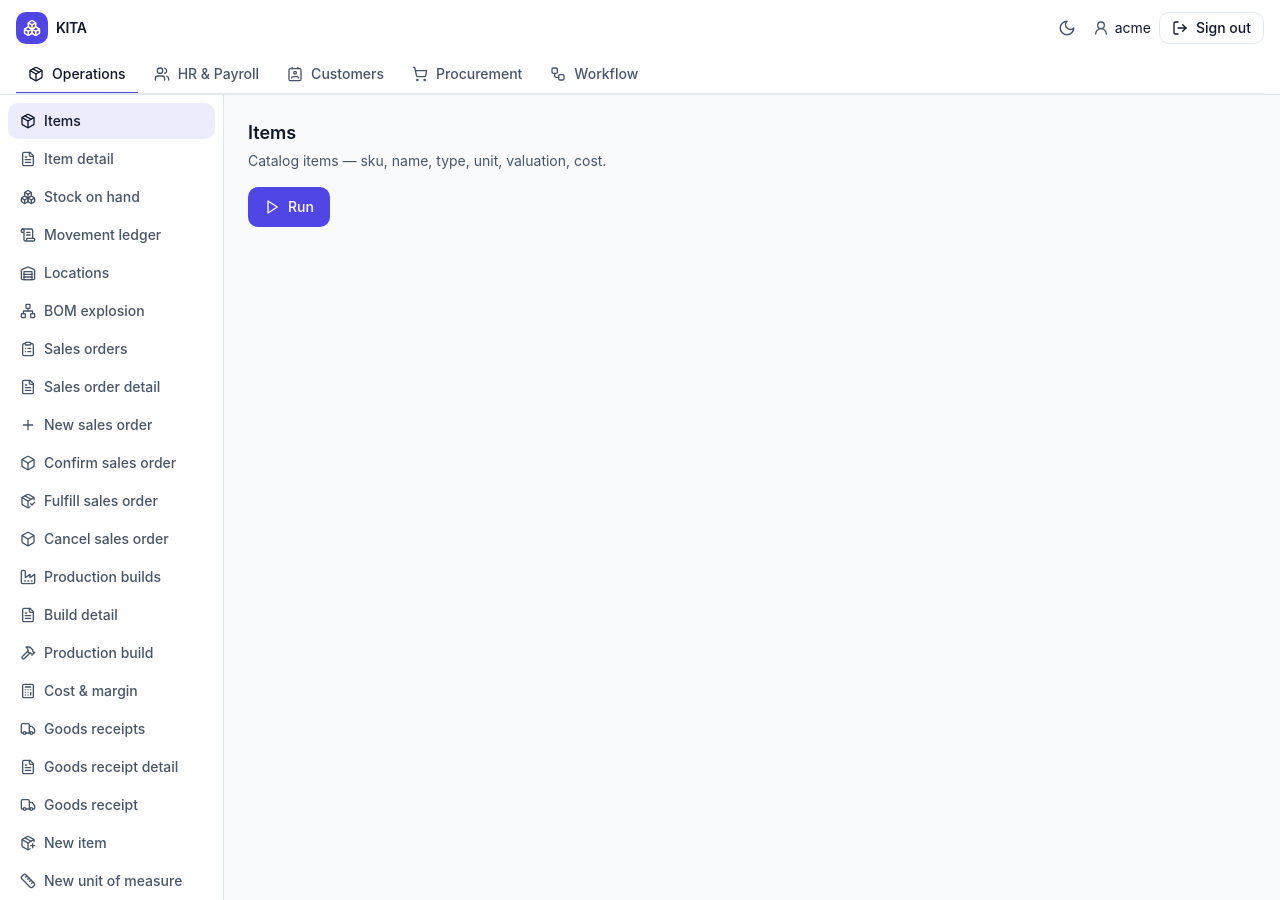
it: Console shell › signs out back to the login page
Click the button "Sign out": (1212, 28) [1159,12,1264,44]
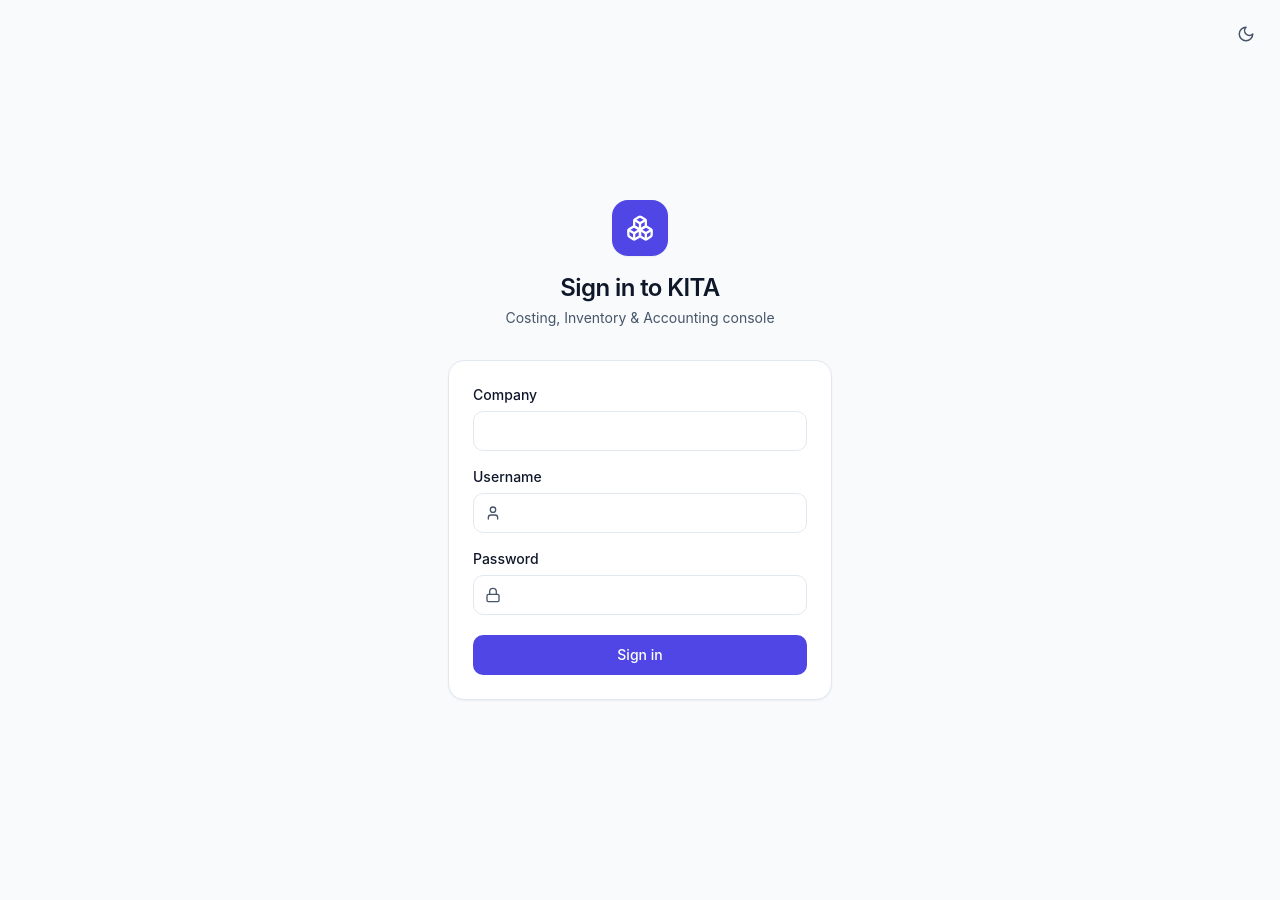
Expected: the heading "Sign in to KITA" is shown, [560,272,720,304]
